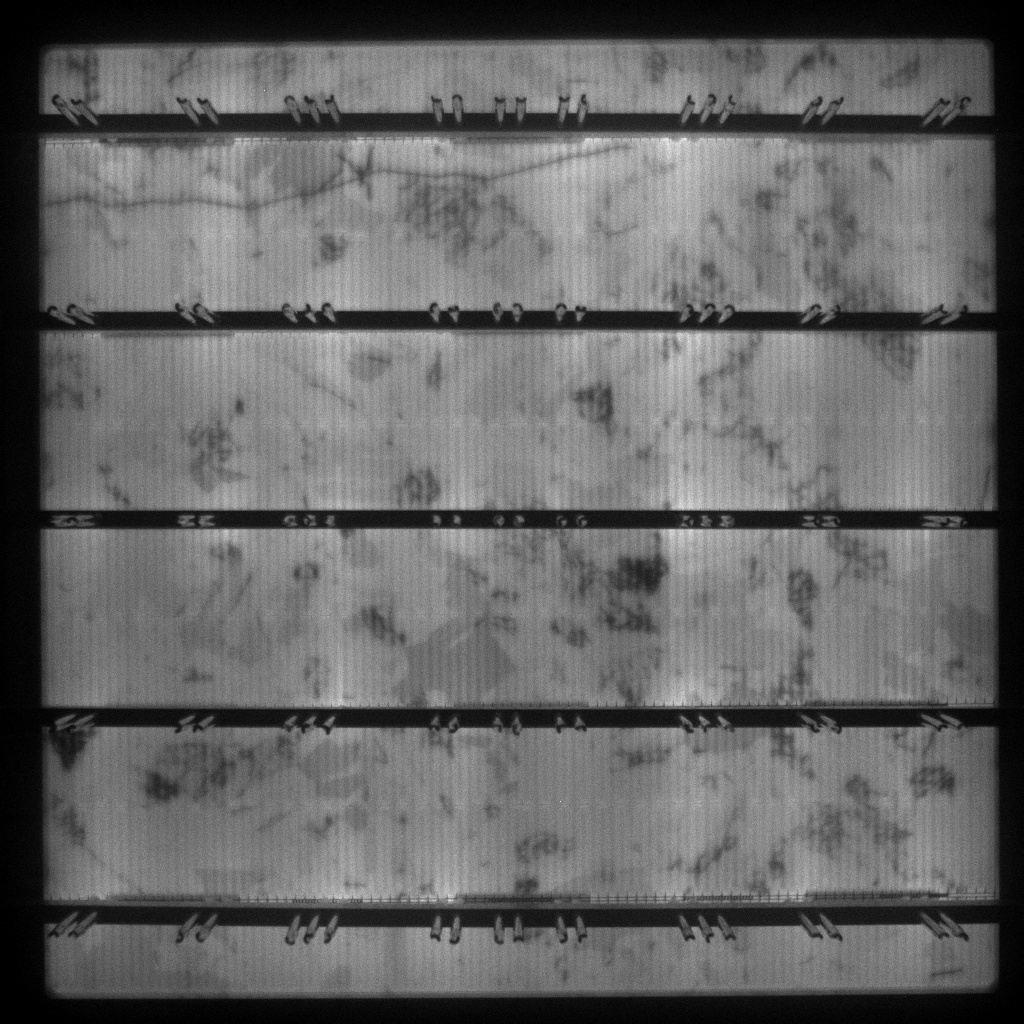crack: (44, 142, 640, 214)
